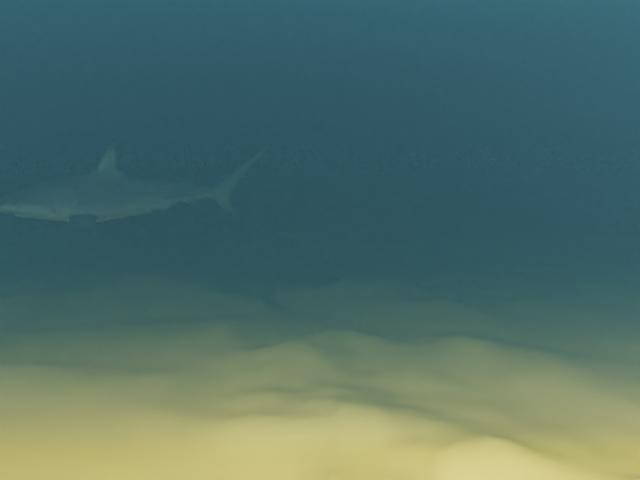Carribean Shark.001: (0, 143, 272, 235)
